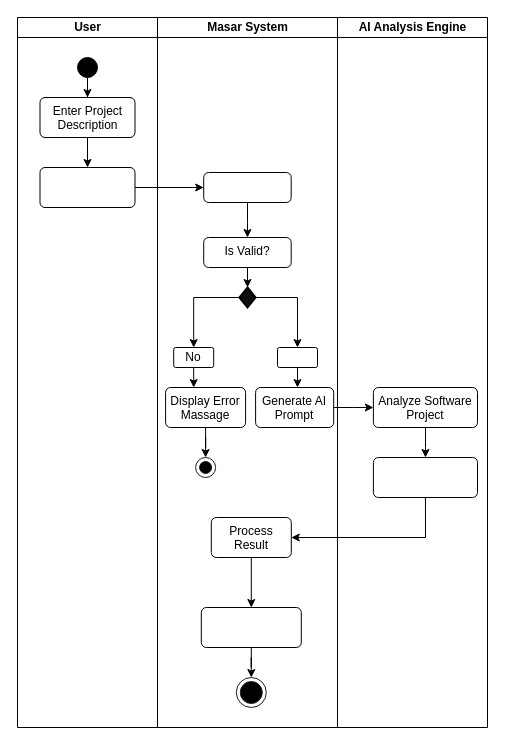
Some shapes in this 505 by 745 pixel diagram are drawn without their labels. Each missing label, with the box of its shape:
Display Recommendation: (200, 606, 301, 648)
Generate AI Recommendation: (372, 456, 478, 498)
Submit Analysis Req: (39, 166, 135, 208)
Validate Input: (203, 172, 291, 202)
Yes: (276, 346, 318, 368)
